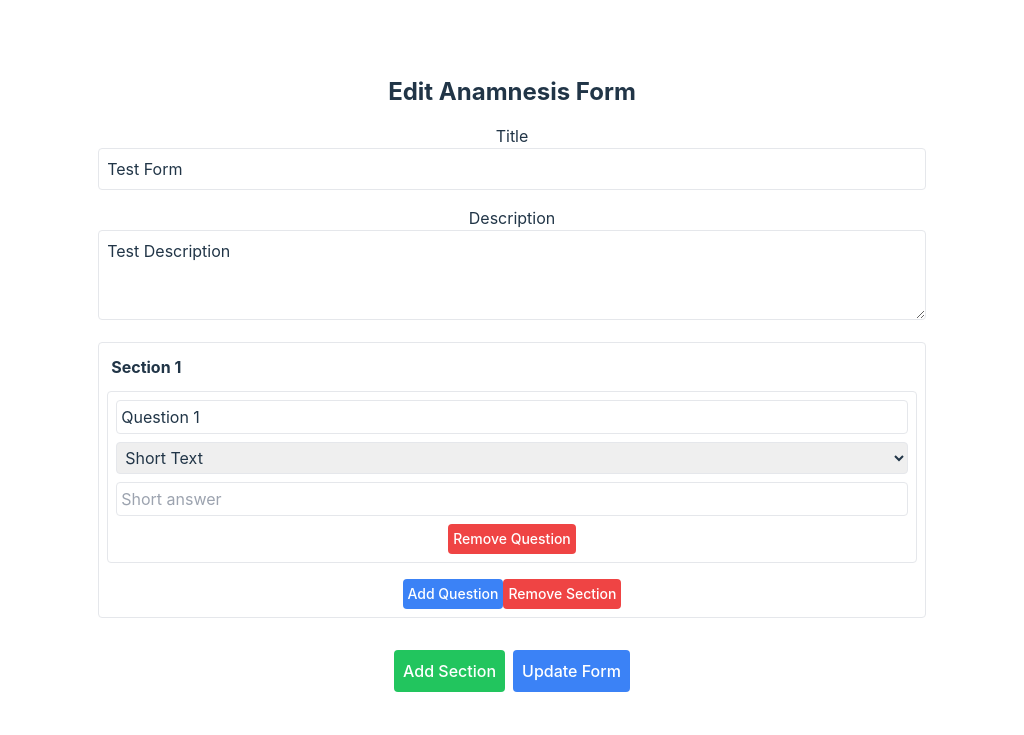
Test: AnamnesisFormEditor › adds a new section
What coordinates should you click on to do the following:
click the button "Add Section"
I would click on:
 (450, 671)
Its box is 394,650 -> 505,692.
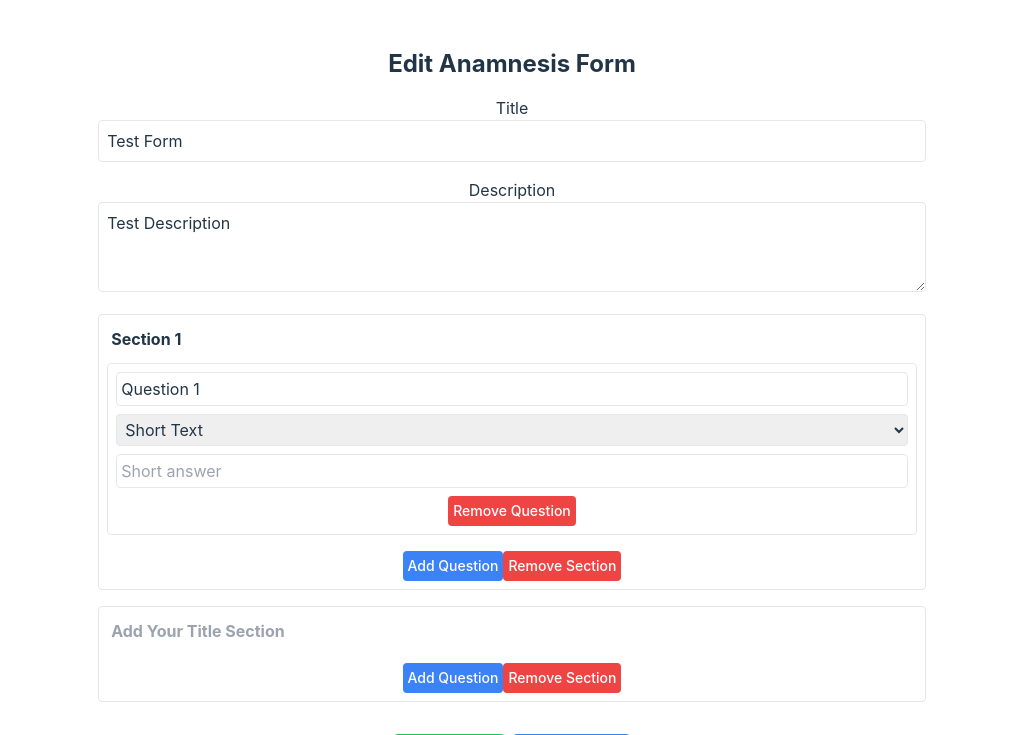
Check: the number of buttons "Remove Section" is 2, box 504,551 -> 622,581; 504,663 -> 622,693
